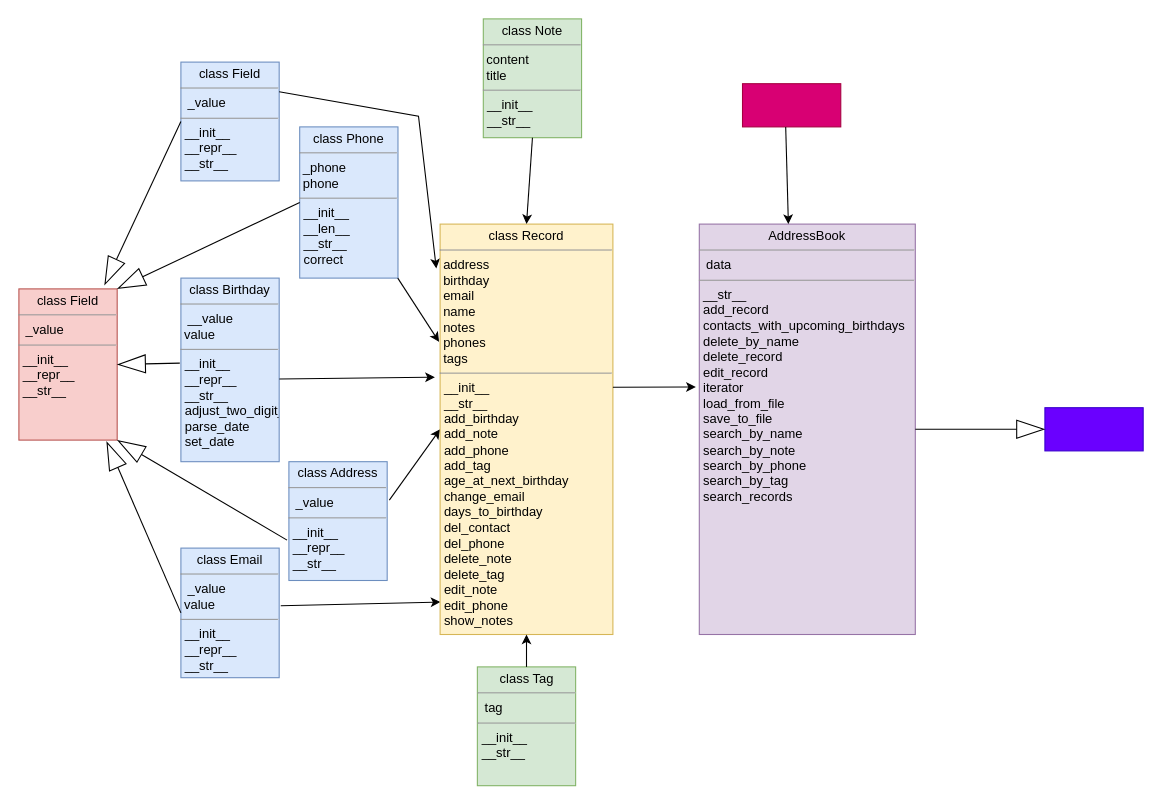
Image size: 1162x805. Some labels were removed from this diagram. Each missing label, with the centre of its shape:
pickle.load: (x=791, y=105)
UserDict: (x=1093, y=429)
